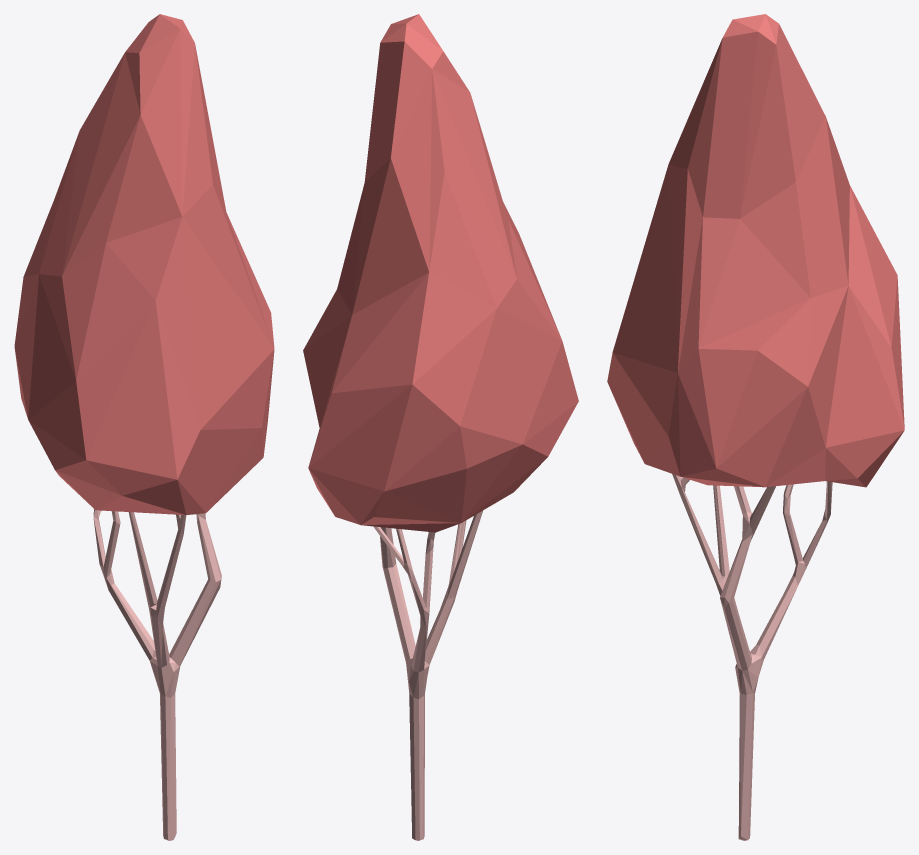
Rendered from Treepoly3.fbx.
3 views of the same model, side by side, from view 1: azimuth 30°, elevation 25°; view 2: azimuth 150°, elevation 25°; view 3: azimuth 270°, elevation 25° (orthographic).
Visible parts, largest first — view 1: Leaves.003, Trunk.003; view 2: Leaves.003, Trunk.003; view 3: Leaves.003, Trunk.003.
Part boxes in pixels (left/top/right/bottom): Leaves.003: left=14, top=14, right=274, bottom=515; Trunk.003: left=93, top=509, right=221, bottom=840; Leaves.003: left=303, top=14, right=578, bottom=532; Trunk.003: left=373, top=510, right=482, bottom=840; Leaves.003: left=607, top=14, right=904, bottom=487; Trunk.003: left=672, top=474, right=832, bottom=840.
Bounding box in the file's own units: 361 × 1364 × 444.
